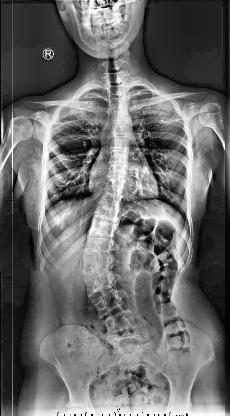Vertebrae: (101, 312, 139, 334), (92, 292, 128, 314), (83, 274, 116, 292), (82, 256, 112, 274), (83, 238, 113, 254), (88, 221, 116, 237), (92, 206, 120, 221), (98, 194, 122, 209), (104, 84, 128, 98), (109, 122, 133, 136), (104, 179, 128, 193), (107, 98, 130, 112), (109, 136, 131, 150), (108, 150, 130, 164), (107, 164, 129, 178), (107, 110, 132, 122)
